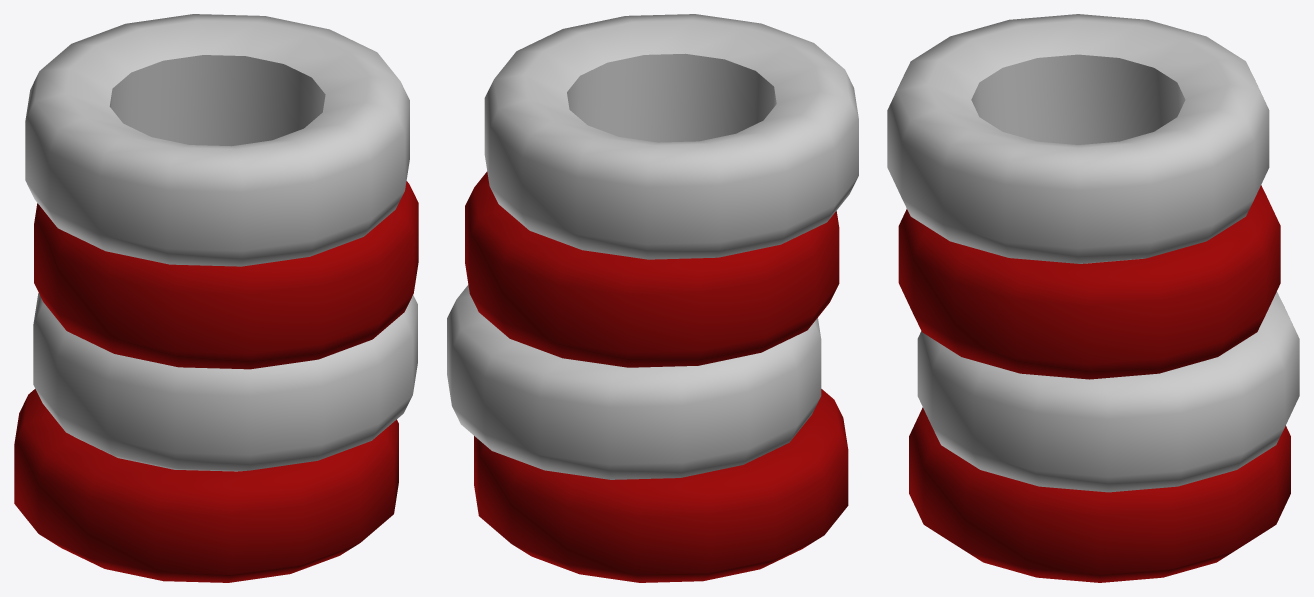
The model's file is Tire_free.fbx.
3 renders of one model, left to right at view 1: azimuth 30°, elevation 25°; view 2: azimuth 150°, elevation 25°; view 3: azimuth 270°, elevation 25°, orthographic. The views are drawn at different scales.
Visible parts, largest first — view 1: Tire_free; view 2: Tire_free; view 3: Tire_free.
Boxes of the visible parts, x1=… form: Tire_free: x1=14, y1=14, x2=418, y2=582; Tire_free: x1=447, y1=14, x2=858, y2=582; Tire_free: x1=887, y1=14, x2=1299, y2=582.
Bounding box in the file's own units: 64.16 × 74.33 × 64.75.
